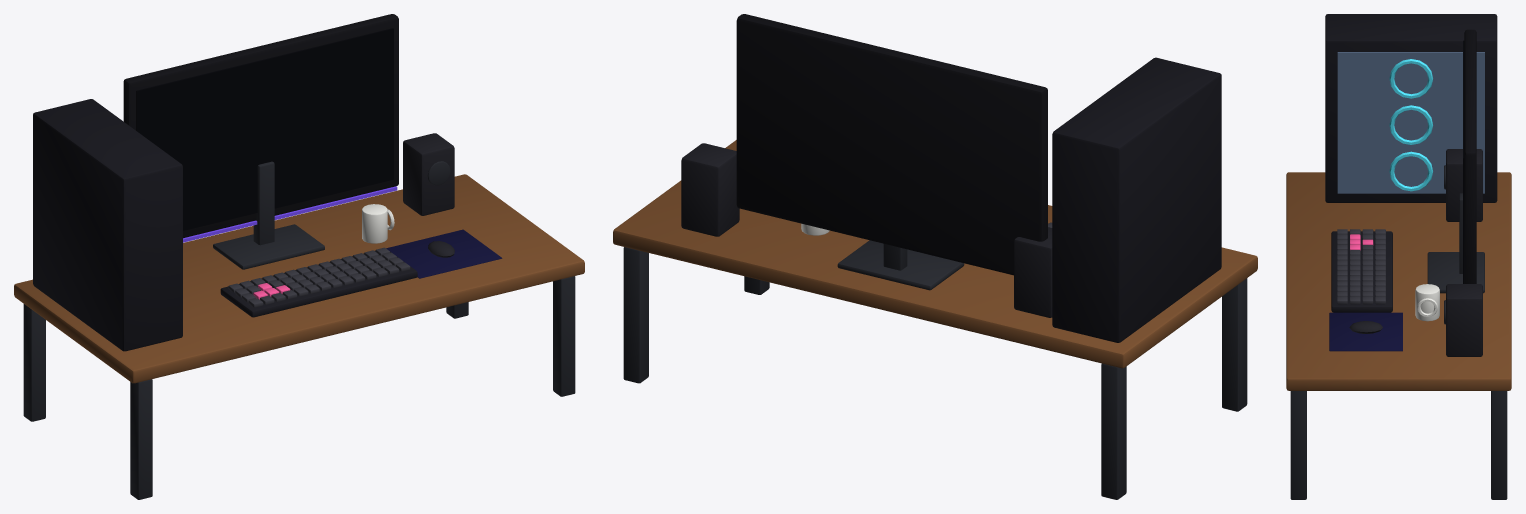
The model's file is FinaleComputer.fbx.
3 views of the same model, side by side, from view 1: azimuth 30°, elevation 25°; view 2: azimuth 150°, elevation 25°; view 3: azimuth 270°, elevation 25° (orthographic). The views are drawn at different scales.
Parts seen in each view (by area): view 1: FinaleComputer; view 2: FinaleComputer; view 3: FinaleComputer.
Boxes of the visible parts, box(x1,y1,x2,y2) form: FinaleComputer: box(14, 14, 584, 499); FinaleComputer: box(613, 14, 1257, 499); FinaleComputer: box(1286, 14, 1511, 499).
Bounding box in the file's own units: 1200 × 835 × 550.
